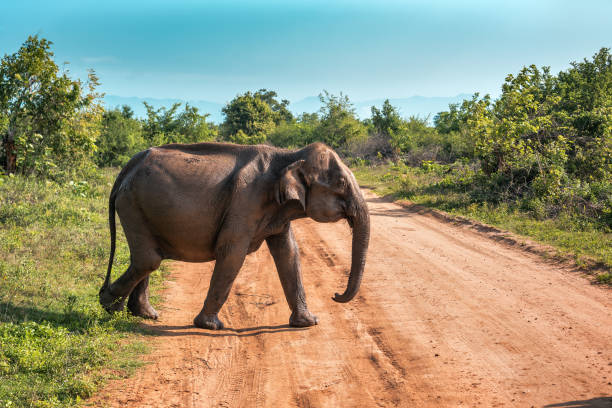elephant: (99, 143, 369, 328)
